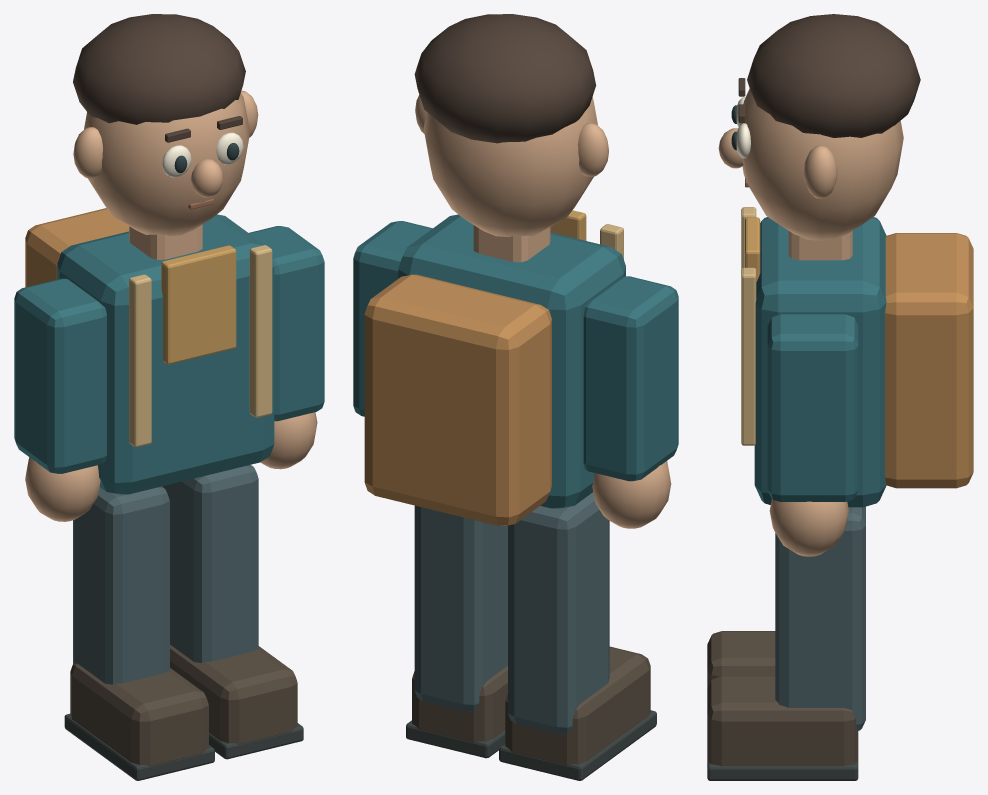
File: hero.glb
The picture shows the model from 3 angles, left to right: view 1: azimuth 30°, elevation 25°; view 2: azimuth 150°, elevation 25°; view 3: azimuth 270°, elevation 25°; orthographic projection. The views are drawn at different scales.
Visible parts, largest first — view 1: Jacket, Trouser leg, Sleeve, Trouser leg.001, Hair cap, Face, Boot, Sleeve.001, Boot.001, Shirt, Pack strap.001, Pack strap (+10 smaller); view 2: Backpack, Trouser leg, Hair cap, Jacket, Sleeve, Trouser leg.001, Face, Boot, Sleeve.001, Boot.001, Hand, Sole (+5 smaller); view 3: Backpack, Jacket, Sleeve.001, Hair cap, Trouser leg.001, Face, Boot.001, Hand.001, Boot, Pack strap.001, Sole.001, Neck (+3 smaller).
Part boxes in pixels (x1,y1,x2,y2): Jacket: [57, 214, 274, 494]; Trouser leg: [73, 486, 169, 684]; Sleeve: [14, 278, 106, 473]; Trouser leg.001: [162, 465, 258, 662]; Hair cap: [73, 14, 245, 124]; Face: [84, 93, 249, 235]; Boot: [70, 663, 208, 766]; Sleeve.001: [249, 226, 324, 421]; Boot.001: [170, 644, 297, 744]; Shirt: [161, 245, 236, 364]; Pack strap.001: [249, 245, 272, 417]; Pack strap: [129, 274, 151, 447]; Backpack: [364, 274, 551, 525]; Trouser leg: [508, 492, 609, 734]; Hair cap: [414, 14, 596, 143]; Jacket: [398, 214, 625, 508]; Sleeve: [583, 276, 678, 481]; Trouser leg.001: [414, 505, 507, 711]; Face: [423, 97, 597, 236]; Boot: [505, 646, 650, 765]; Sleeve.001: [353, 221, 432, 416]; Boot.001: [412, 666, 507, 742]; Hand: [592, 461, 671, 528]; Sole: [499, 710, 656, 780]; Backpack: [885, 233, 973, 488]; Jacket: [754, 217, 886, 507]; Sleeve.001: [767, 314, 858, 501]; Hair cap: [747, 14, 920, 137]; Trouser leg.001: [775, 506, 865, 730]; Face: [739, 89, 903, 240]; Boot.001: [707, 676, 858, 766]; Hand.001: [769, 499, 848, 556]; Boot: [707, 631, 775, 688]; Pack strap.001: [741, 267, 756, 445]; Sole.001: [707, 762, 858, 780]; Neck: [788, 231, 852, 260].
Bounding box in the file's own units: 0.89 × 2.09 × 0.705.
